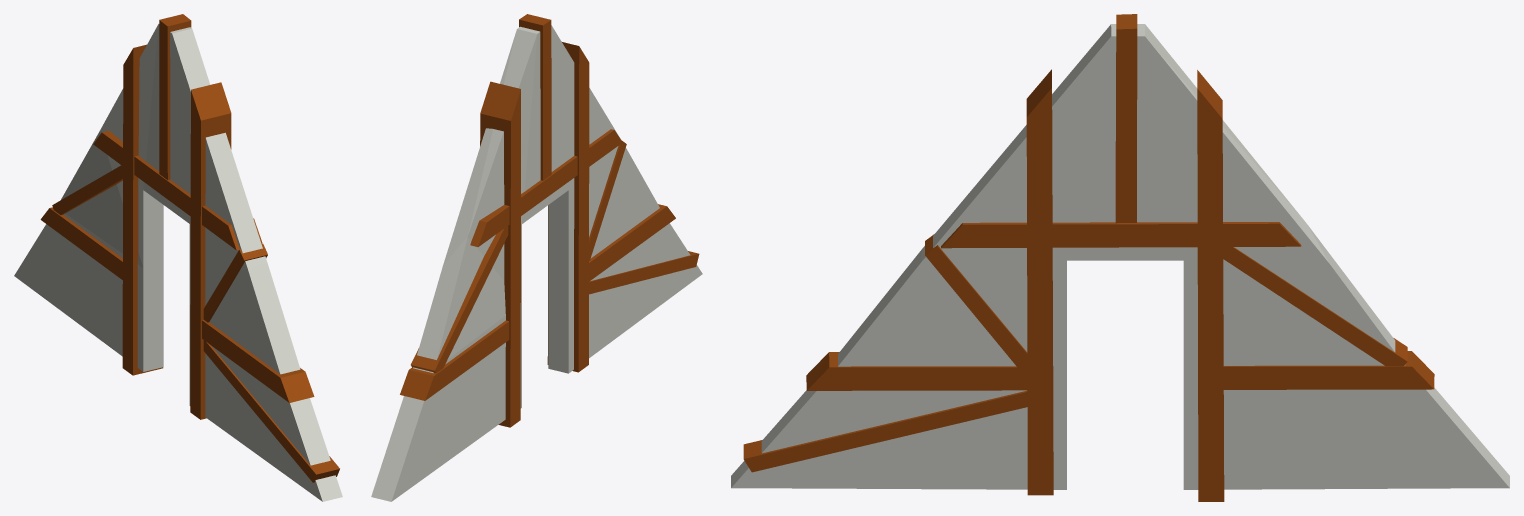
The model's file is NormalRoofWallDoored2.fbx.
The picture shows the model from 3 angles, left to right: view 1: azimuth 30°, elevation 25°; view 2: azimuth 150°, elevation 25°; view 3: azimuth 270°, elevation 25°; orthographic projection. The views are drawn at different scales.
Parts seen in each view (by area): view 1: NormalRoofWallDoored2; view 2: NormalRoofWallDoored2; view 3: NormalRoofWallDoored2.
Part boxes in pixels (x1=…): NormalRoofWallDoored2: x1=14, y1=14, x2=342, y2=501; NormalRoofWallDoored2: x1=371, y1=14, x2=702, y2=501; NormalRoofWallDoored2: x1=731, y1=14, x2=1509, y2=501.
Size of the model in its own units: 114 by 1328 by 1993.
